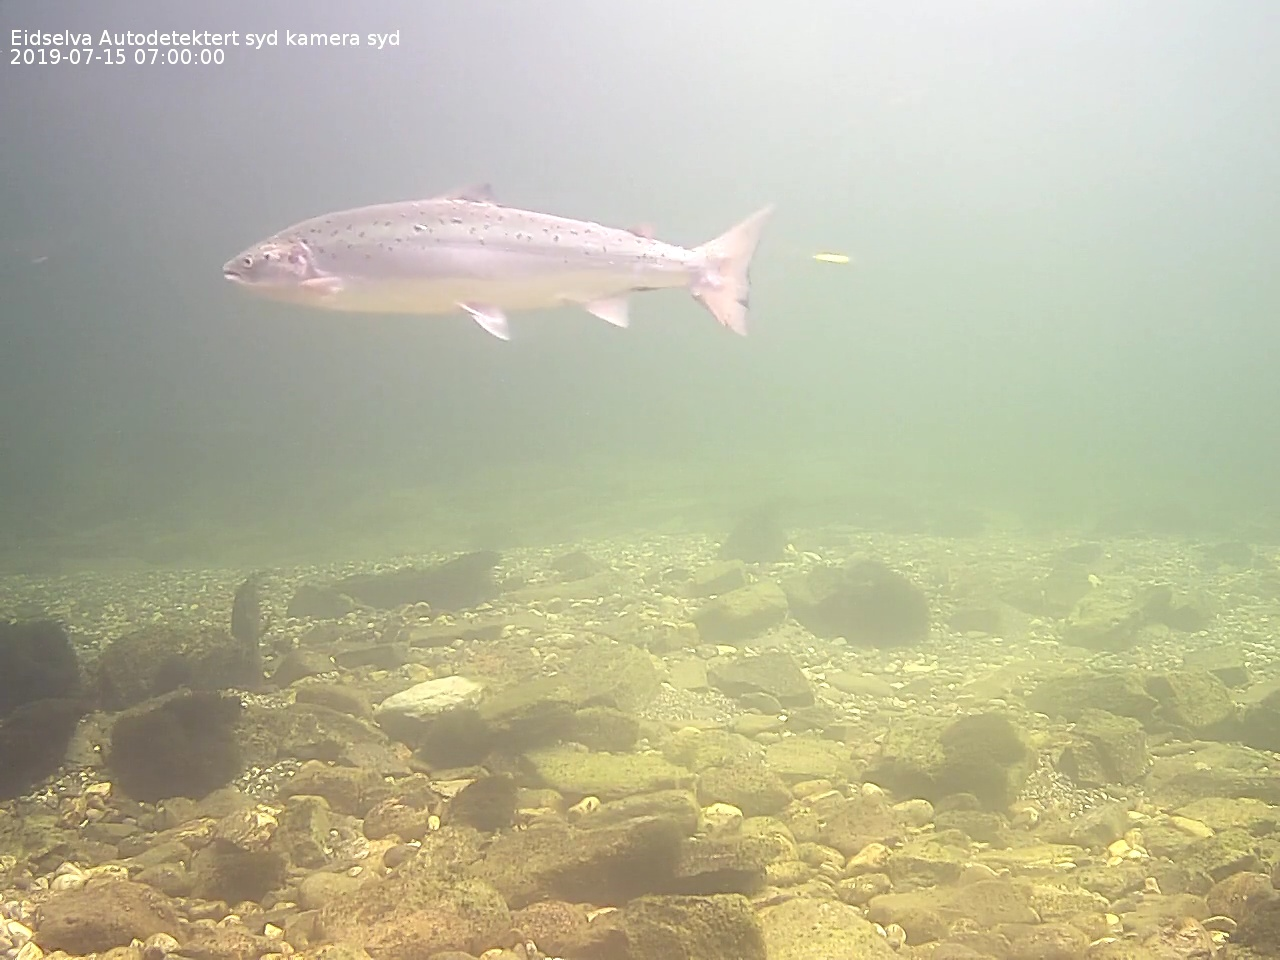salmon: (214, 172, 778, 351)
